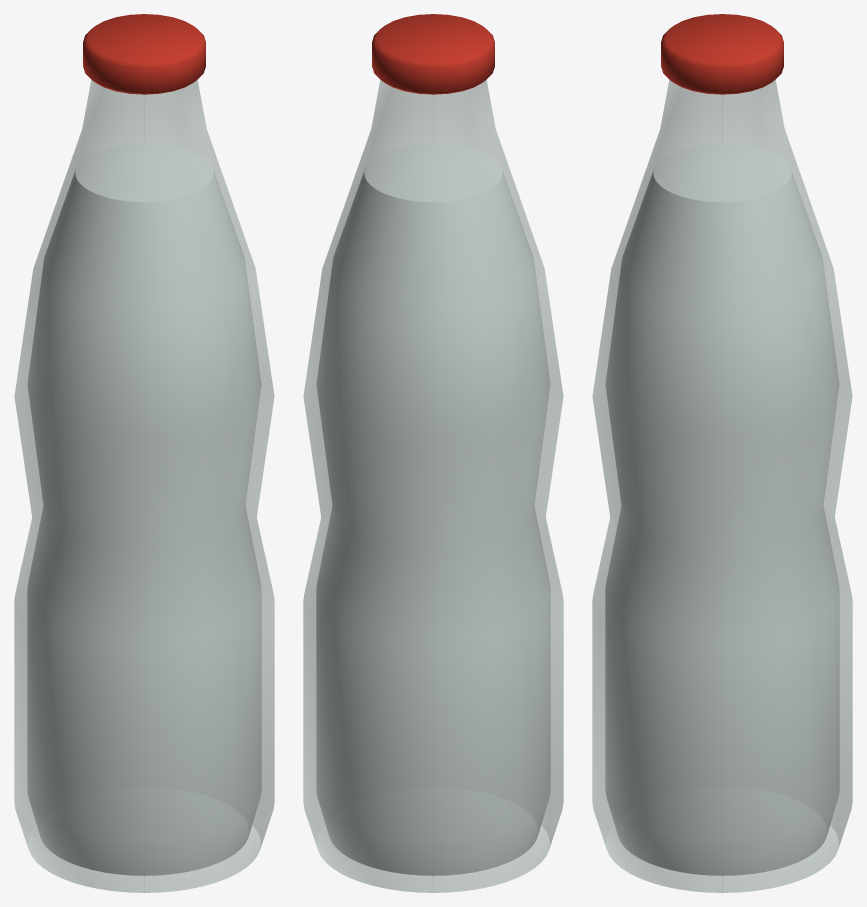
Rendered from ks-claro.glb.
The picture shows the model from 3 angles, left to right: view 1: azimuth 30°, elevation 25°; view 2: azimuth 150°, elevation 25°; view 3: azimuth 270°, elevation 25°; orthographic projection.
Parts seen in each view (by area): view 1: ks-claro; view 2: ks-claro; view 3: ks-claro.
Boxes of the visible parts, box(x1,y1,x2,y2) form: ks-claro: box(14, 14, 274, 892); ks-claro: box(303, 14, 563, 892); ks-claro: box(592, 14, 852, 892).
Size of the model in its own units: 0.058 by 0.1982 by 0.058.
